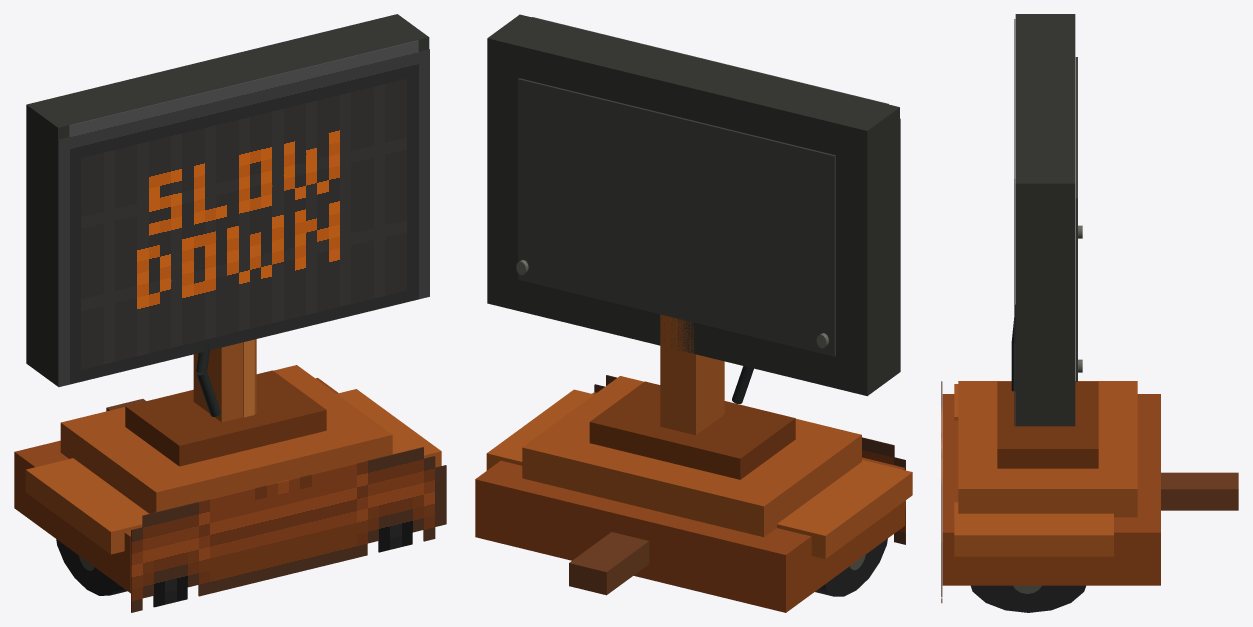
Rendered from CMU3DTrafficDirector5D3Cloud.glb.
3 renders of one model, left to right at view 1: azimuth 30°, elevation 25°; view 2: azimuth 150°, elevation 25°; view 3: azimuth 270°, elevation 25°, orthographic. The views are drawn at different scales.
Parts seen in each view (by area): view 1: exact source message and border, source directional orange chassis and lights, thick dark sign cabinet, upper sloping orange housing, central mast foot, orange fender (×2), deep orange trailer chassis, orange vertical mast, black trailer wheel, mast light edge; view 2: rear cabinet access hatch, thick dark sign cabinet, deep orange trailer chassis, upper sloping orange housing, central mast foot, orange fender (×2), orange vertical mast, trailer rear drawbeam, black trailer wheel, source directional orange chassis and lights, exact source message and border; view 3: thick dark sign cabinet, upper sloping orange housing, deep orange trailer chassis, orange fender, central mast foot, trailer rear drawbeam, black trailer wheel, rear cabinet access hatch, exact source message and border, source directional orange chassis and lights.
Boxes of the visible parts, <box> form: exact source message and border: <box>58,40,429,386</box>; source directional orange chassis and lights: <box>131,447,446,612</box>; thick dark sign cabinet: <box>26,14,429,386</box>; upper sloping orange housing: <box>60,365,392,513</box>; central mast foot: <box>125,370,326,466</box>; orange fender (×2): <box>25,389,441,554</box>; deep orange trailer chassis: <box>14,378,338,593</box>; orange vertical mast: <box>193,339,256,422</box>; black trailer wheel: <box>56,539,127,595</box>; mast light edge: <box>243,339,254,417</box>; rear cabinet access hatch: <box>518,78,835,356</box>; thick dark sign cabinet: <box>487,14,899,396</box>; deep orange trailer chassis: <box>475,392,904,612</box>; upper sloping orange housing: <box>522,376,861,537</box>; central mast foot: <box>589,381,795,479</box>; orange fender (×2): <box>486,389,912,558</box>; orange vertical mast: <box>660,314,724,435</box>; trailer rear drawbeam: <box>569,532,649,595</box>; black trailer wheel: <box>815,538,887,596</box>; source directional orange chassis and lights: <box>594,375,905,544</box>; exact source message and border: <box>532,17,900,371</box>; thick dark sign cabinet: <box>1015,14,1075,426</box>; upper sloping orange housing: <box>958,381,1137,517</box>; deep orange trailer chassis: <box>942,394,1160,585</box>; orange fender: <box>954,502,1113,556</box>; central mast foot: <box>997,381,1098,468</box>; trailer rear drawbeam: <box>1161,472,1238,510</box>; black trailer wheel: <box>971,585,1085,612</box>; rear cabinet access hatch: <box>1075,57,1077,381</box>; exact source message and border: <box>1014,19,1015,426</box>; source directional orange chassis and lights: <box>941,381,942,603</box>.
Bounding box in the file's own units: 1.03 × 1.26 × 0.764.
Materials: 15 (2 with a texture image).
